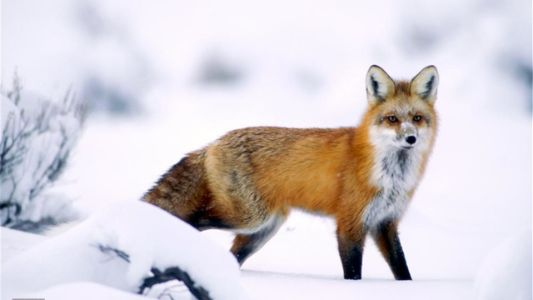fox: (147, 57, 448, 281)
